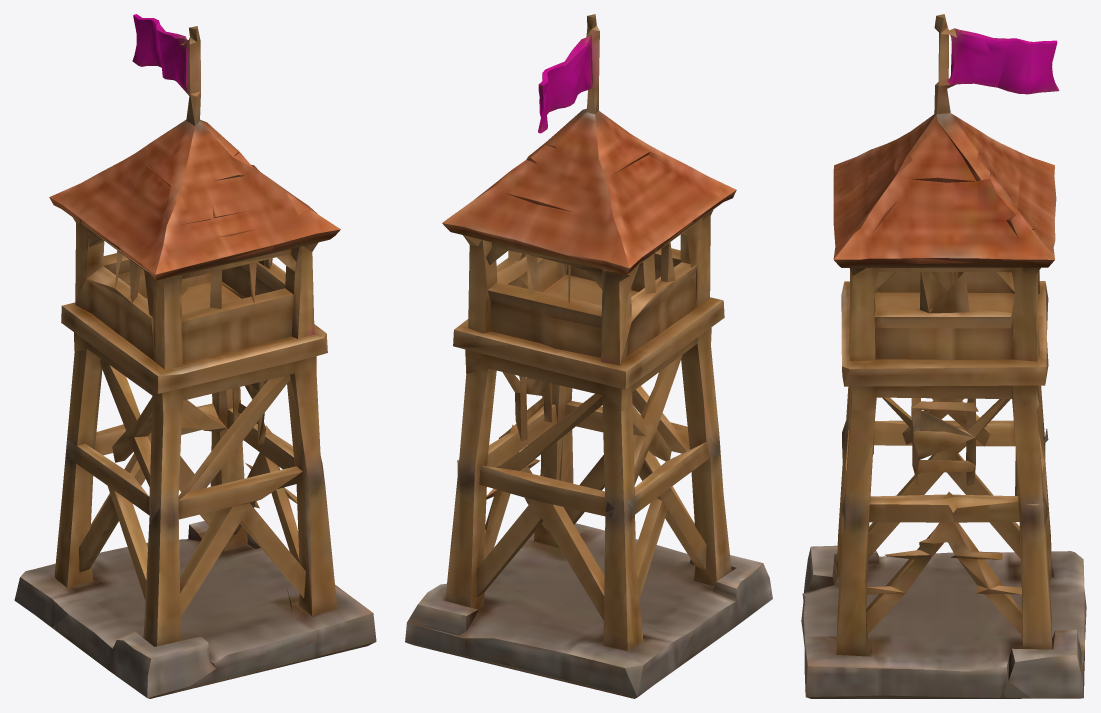
Rendered from tower.lod2.glb.
The picture shows the model from 3 angles, left to right: view 1: azimuth 30°, elevation 25°; view 2: azimuth 150°, elevation 25°; view 3: azimuth 270°, elevation 25°; orthographic projection. The views are drawn at different scales.
Parts seen in each view (by area): view 1: tower.lod2_uv; view 2: tower.lod2_uv; view 3: tower.lod2_uv.
Part boxes in pixels (x1=…): tower.lod2_uv: x1=14, y1=14, x2=376, y2=698; tower.lod2_uv: x1=405, y1=14, x2=772, y2=698; tower.lod2_uv: x1=801, y1=14, x2=1086, y2=698.
Bounding box in the file's own units: 0.7668 × 1.9 × 0.7832.
Materials: 1 (1 with a texture image).
